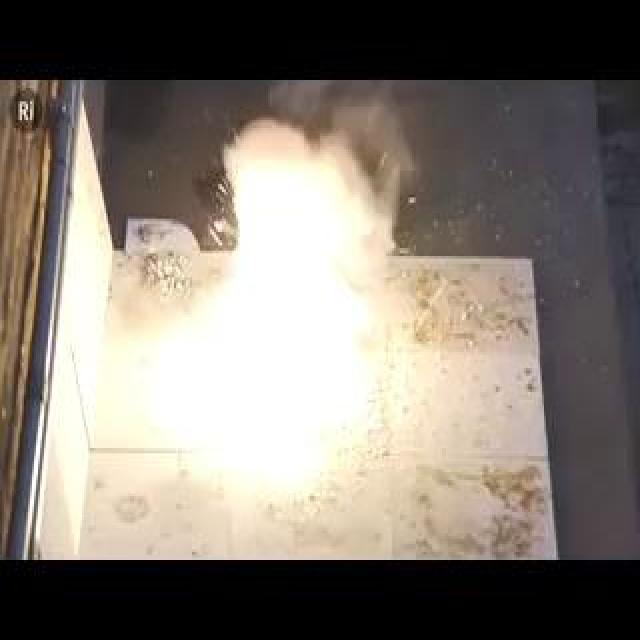Fire: (310, 326, 314, 330)
